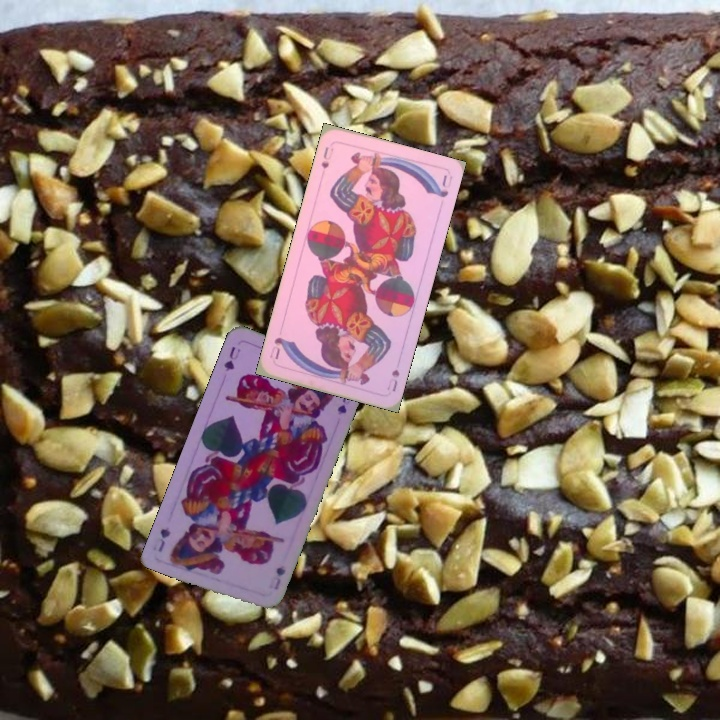GU: (220, 342, 243, 374), (265, 561, 288, 592)
SU: (383, 365, 402, 394), (317, 143, 336, 172)
